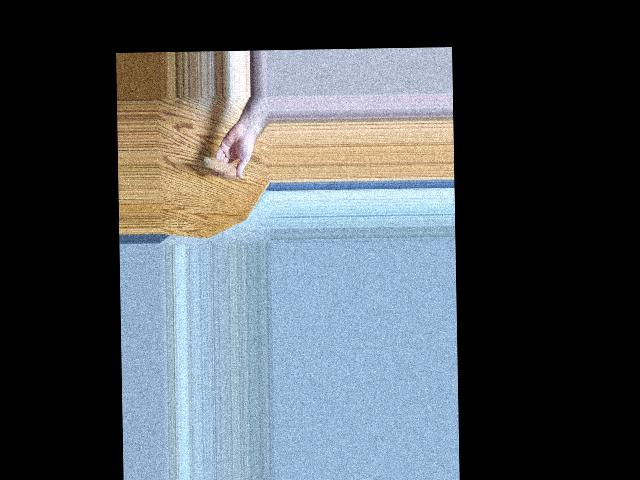sweet_potato: (203, 154, 239, 179)
